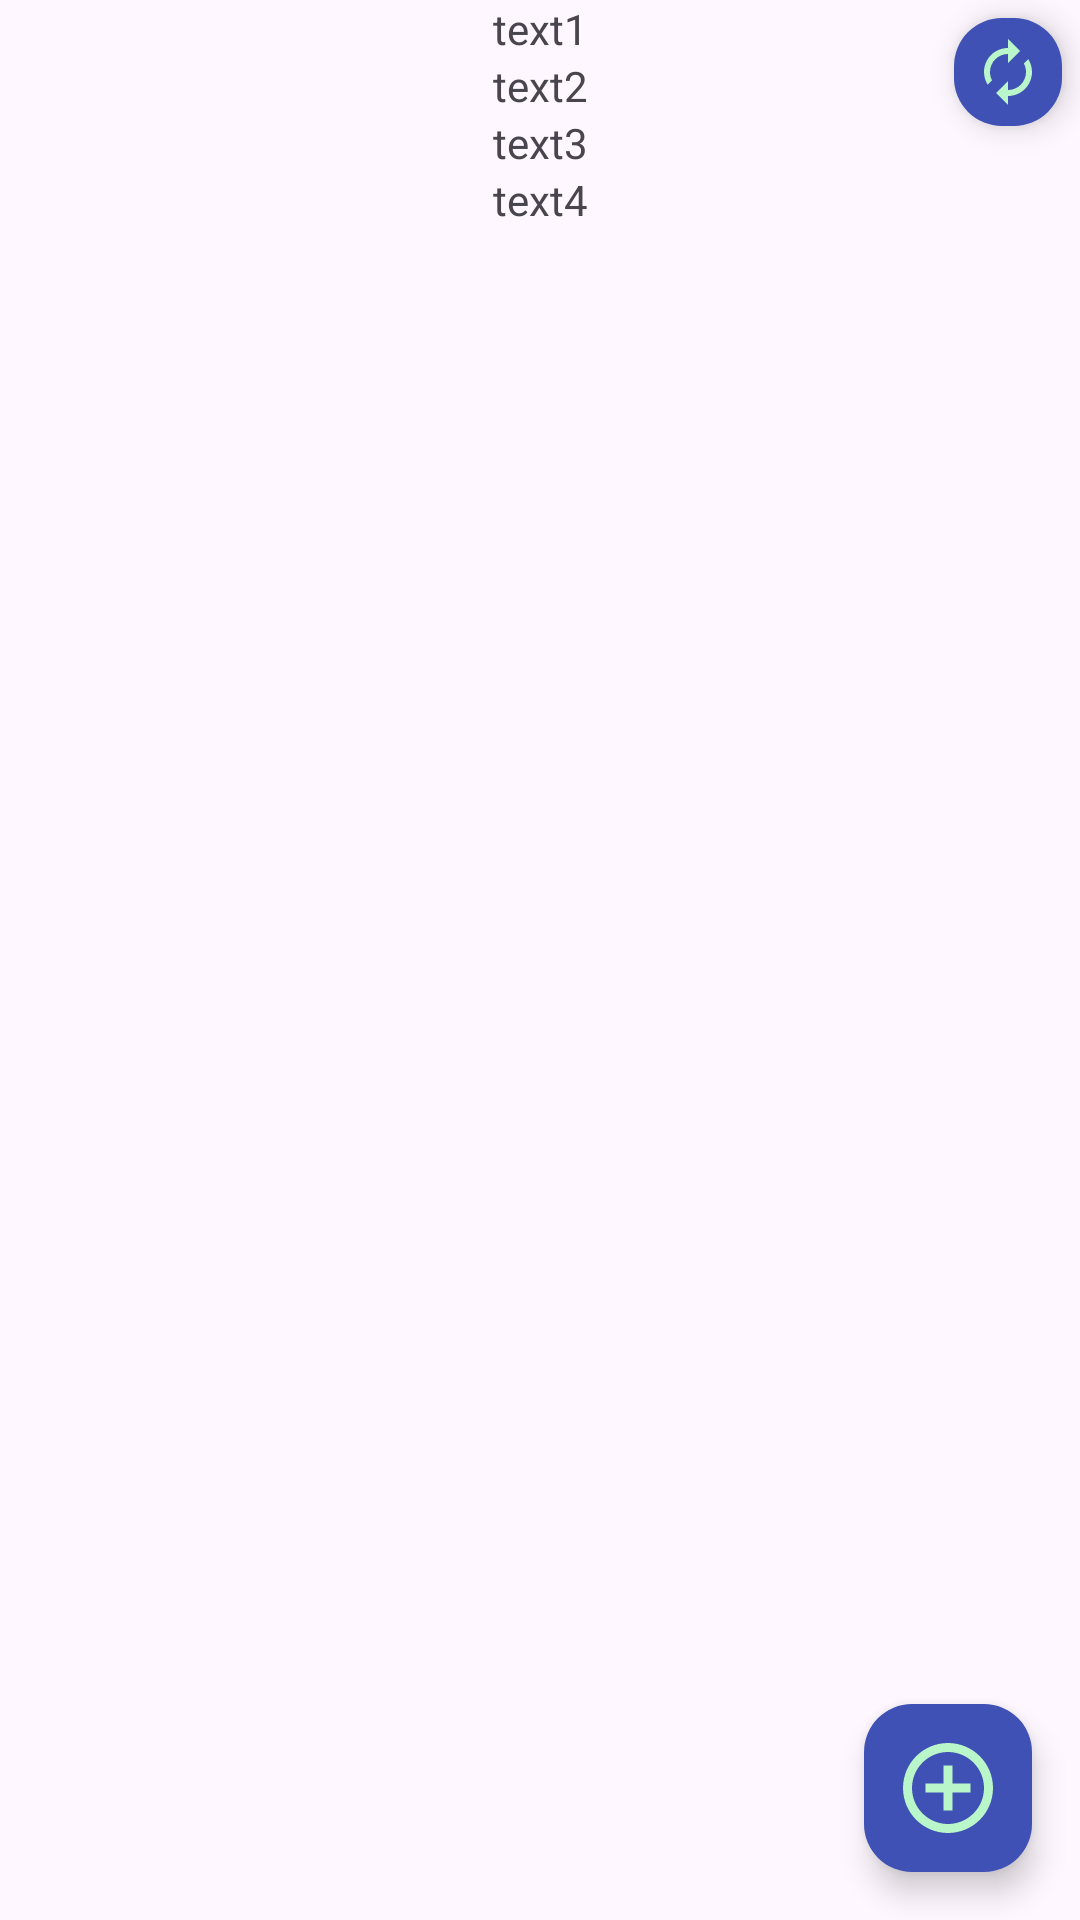

Icon click points for this 1080w x 1920h phone screenshot, format (x,y):
add new record button: (948,1788)
autorenew: (1009,72)
